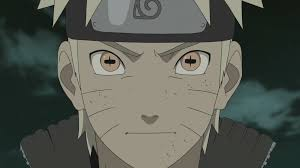Naruto: (56, 2, 244, 166)
